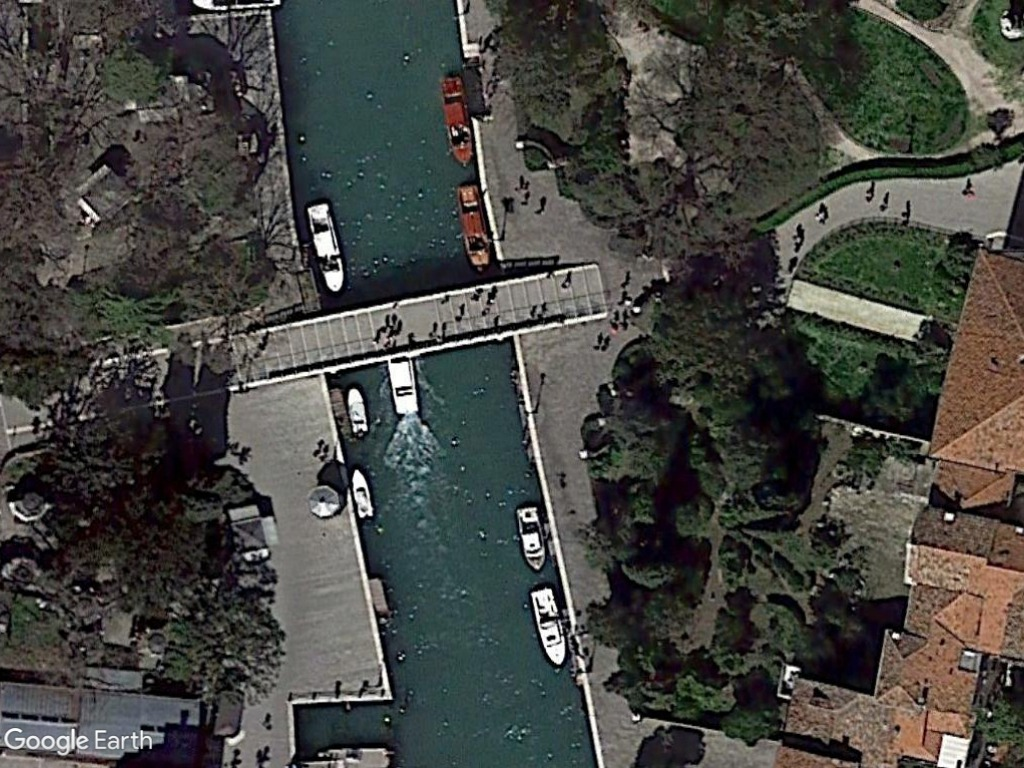boat: (301, 199, 350, 296), (436, 75, 480, 172), (453, 180, 494, 275), (525, 585, 568, 668), (509, 499, 550, 576), (342, 384, 373, 440), (351, 465, 375, 524)
